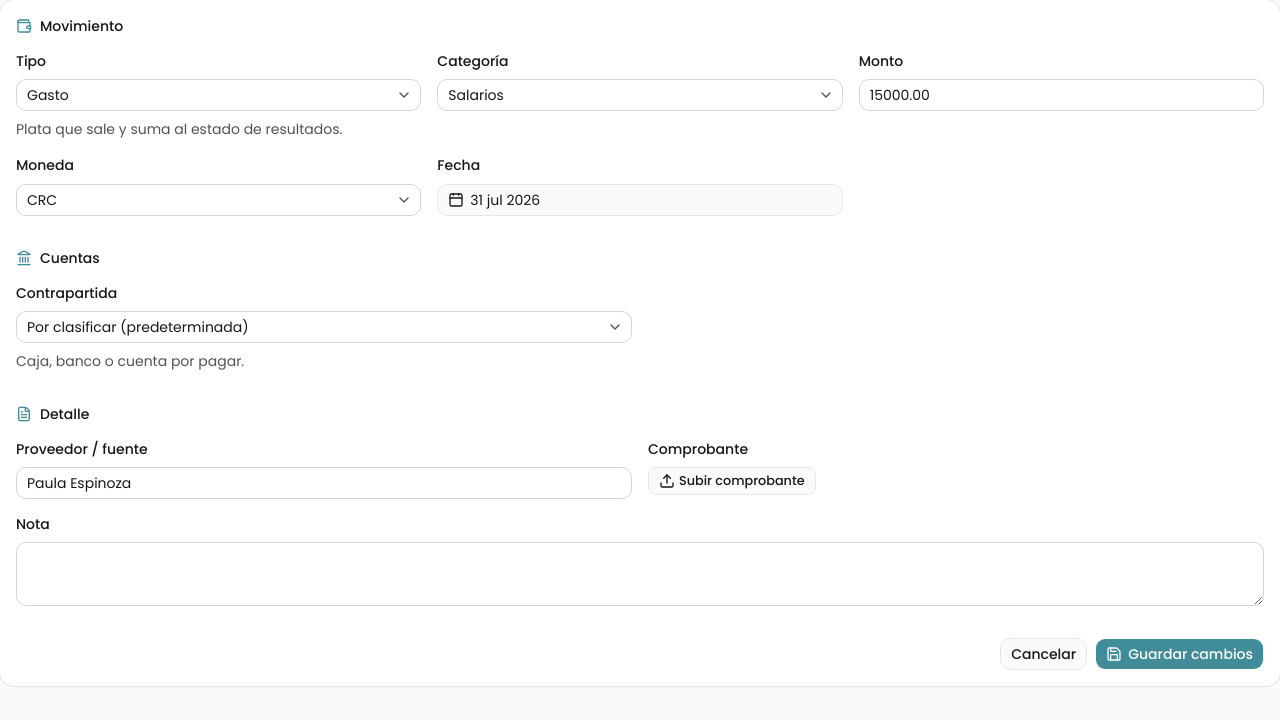
Test: FinanceEntryForm — el monto es texto, no un double › rechaza tres decimales antes de llegar al backend
The width and height of the screenshot is (1280, 720).
Replace the text in the field labelled "Monto" with "10.005": (1061, 95) [859, 79, 1264, 111]
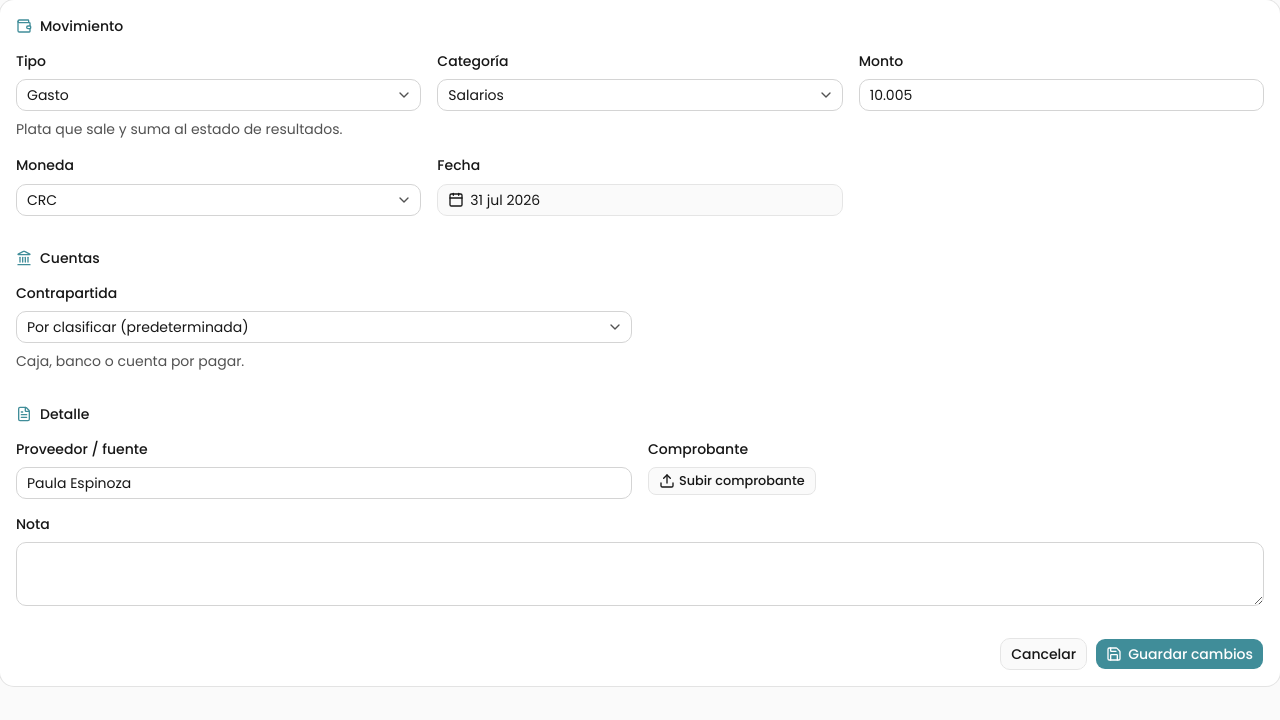
Click the button "Guardar cambios": (1180, 654) [1095, 638, 1264, 670]
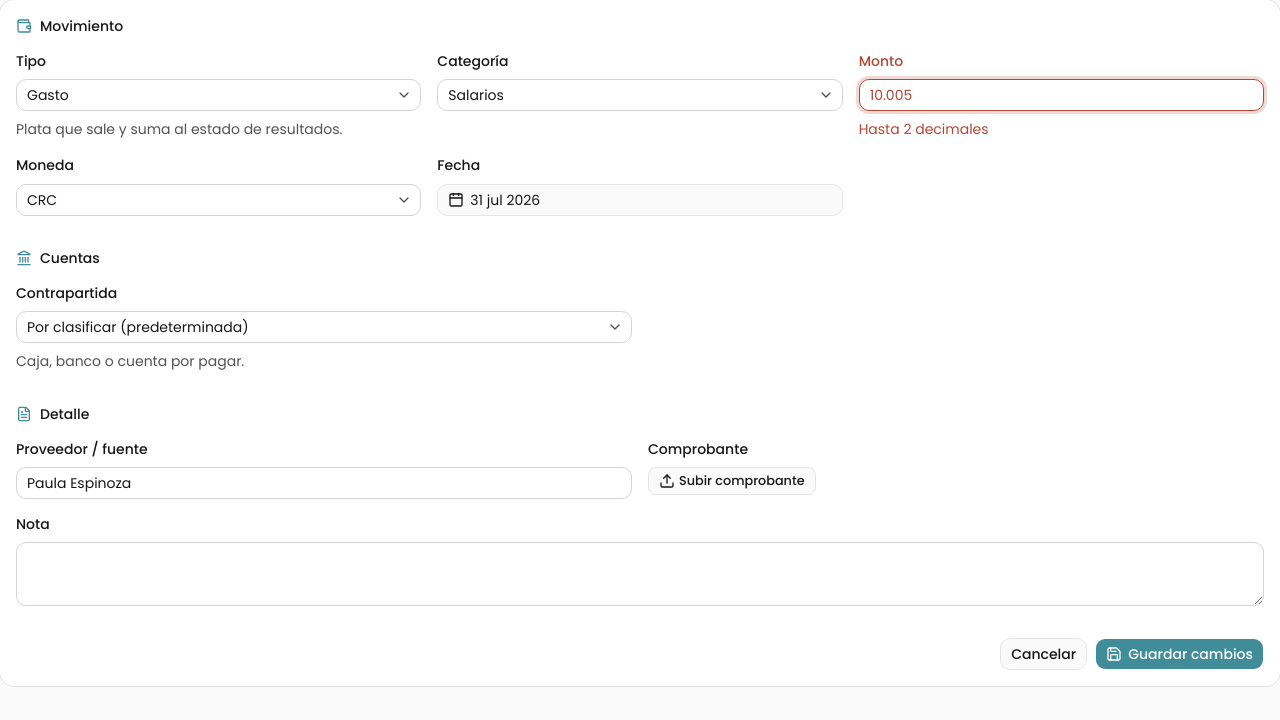
Expected: the text "Hasta 2 decimales" is shown, [859, 119, 989, 139]
